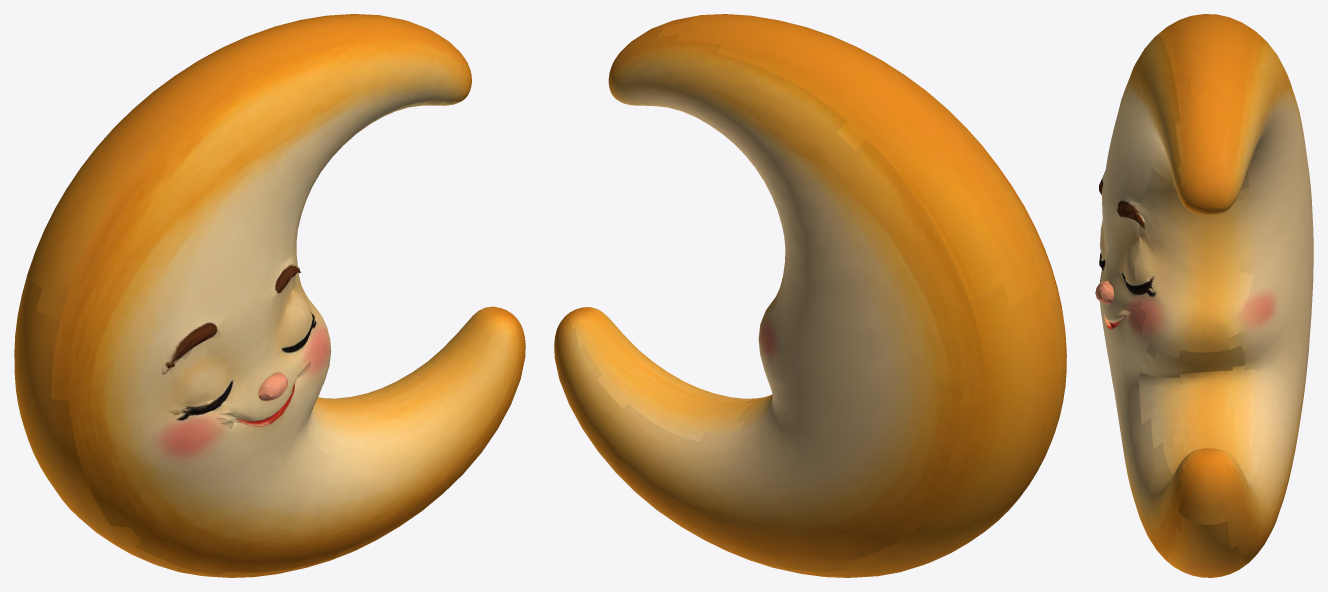
Rendered from hilal-kapali.glb.
The picture shows the model from 3 angles, left to right: view 1: azimuth 30°, elevation 25°; view 2: azimuth 150°, elevation 25°; view 3: azimuth 270°, elevation 25°; orthographic projection. The views are drawn at different scales.
Visible parts, largest first — view 1: Mesh0; view 2: Mesh0; view 3: Mesh0.
Boxes of the visible parts, x1,y1,x2,y2 form: Mesh0: (14,14,525,577); Mesh0: (554,14,1066,577); Mesh0: (1095,14,1313,577).
Bounding box in the file's own units: 1.85 × 1.9 × 0.7316.
1 material, 1 textured.
